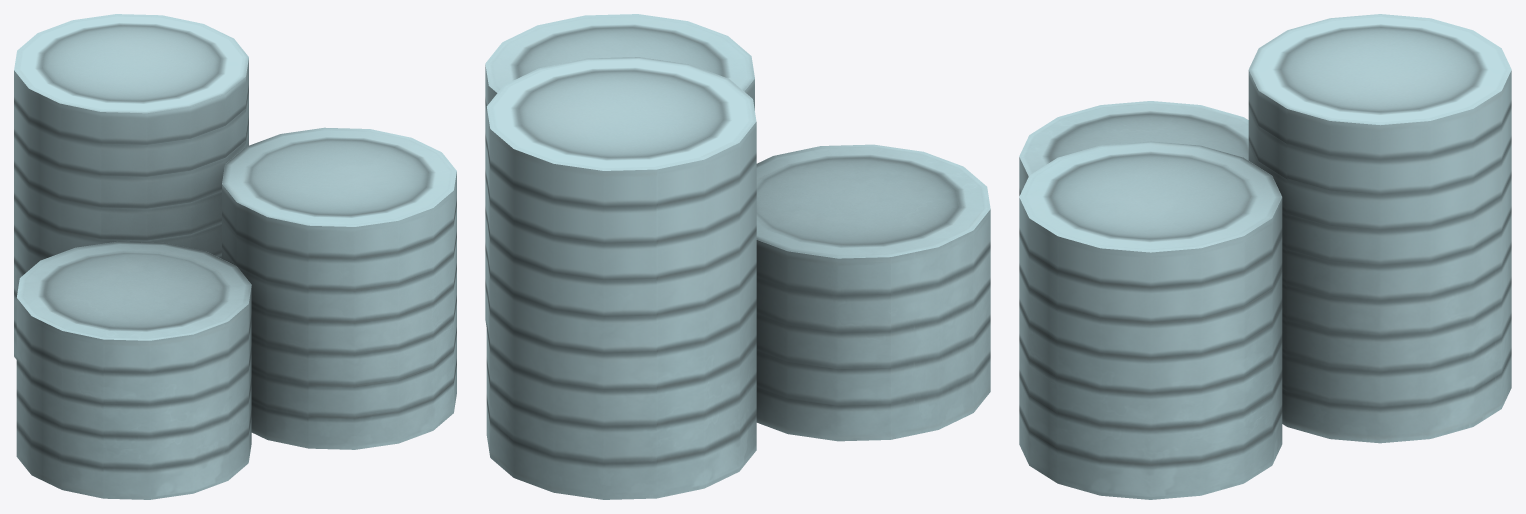
The model's file is coinpile2tex.fbx.
3 views of the same model, side by side, from view 1: azimuth 30°, elevation 25°; view 2: azimuth 150°, elevation 25°; view 3: azimuth 270°, elevation 25° (orthographic). The views are drawn at different scales.
Visible parts, largest first — view 1: coinpile2tex; view 2: coinpile2tex; view 3: coinpile2tex.
Part boxes in pixels (bbox=[...]): coinpile2tex: bbox=[14, 14, 456, 499]; coinpile2tex: bbox=[485, 14, 990, 499]; coinpile2tex: bbox=[1019, 14, 1511, 499].
Bounding box in the file's own units: 0.5998 × 0.4001 × 0.5615.
